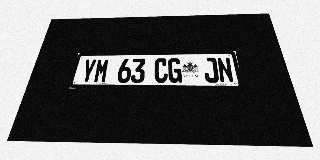3: (130, 58, 145, 83)
6: (117, 59, 132, 83)
C: (154, 58, 168, 83)
G: (168, 58, 182, 83)
J: (203, 58, 219, 83)
M: (93, 59, 110, 83)
N: (216, 57, 234, 83)
Y: (79, 59, 97, 83)
